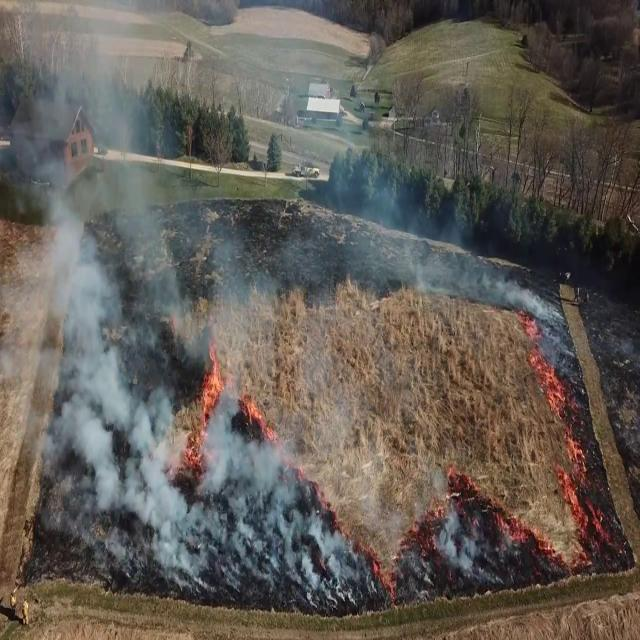Fire: (198, 344, 228, 429)
Smoke: (0, 8, 313, 593)
